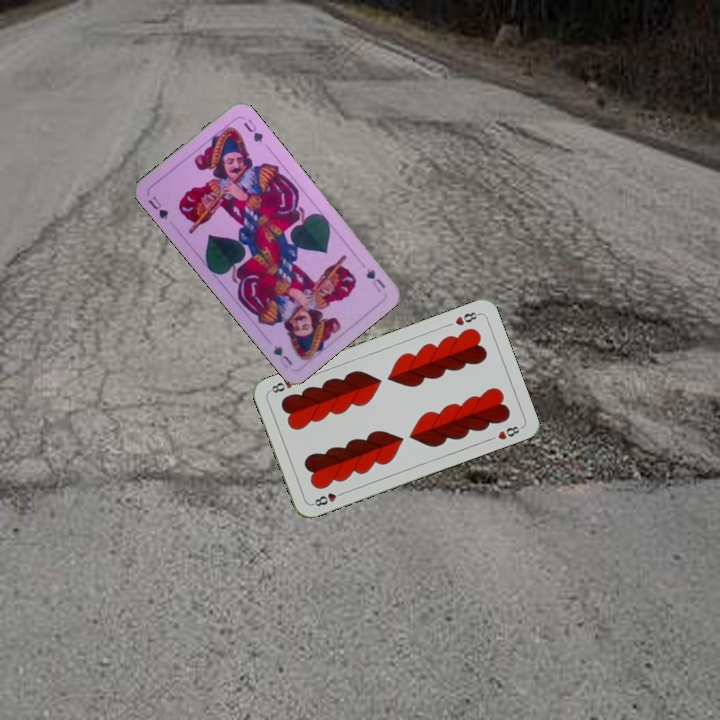GU: (144, 192, 171, 222), (362, 264, 388, 294)
H8: (308, 488, 347, 509), (451, 308, 482, 328)
